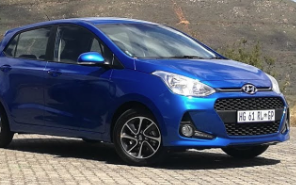car: (1, 16, 291, 166)
